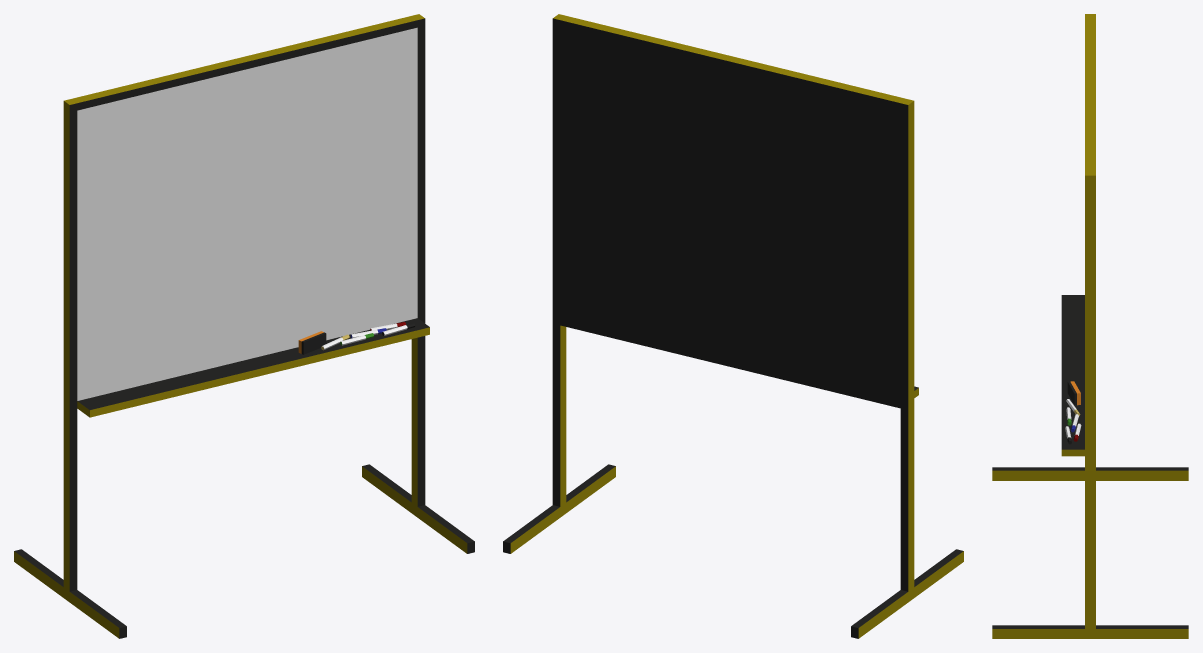
The model's file is Dry_Erase_Board.fbx.
The picture shows the model from 3 angles, left to right: view 1: azimuth 30°, elevation 25°; view 2: azimuth 150°, elevation 25°; view 3: azimuth 270°, elevation 25°; orthographic projection. The views are drawn at different scales.
Parts seen in each view (by area): view 1: Dry_Erase_Board; view 2: Dry_Erase_Board; view 3: Dry_Erase_Board.
Part boxes in pixels (x1=…): Dry_Erase_Board: x1=14, y1=14, x2=474, y2=638; Dry_Erase_Board: x1=503, y1=14, x2=963, y2=638; Dry_Erase_Board: x1=992, y1=14, x2=1188, y2=638.
Size of the model in its own units: 3 by 1.54 by 4.01.
